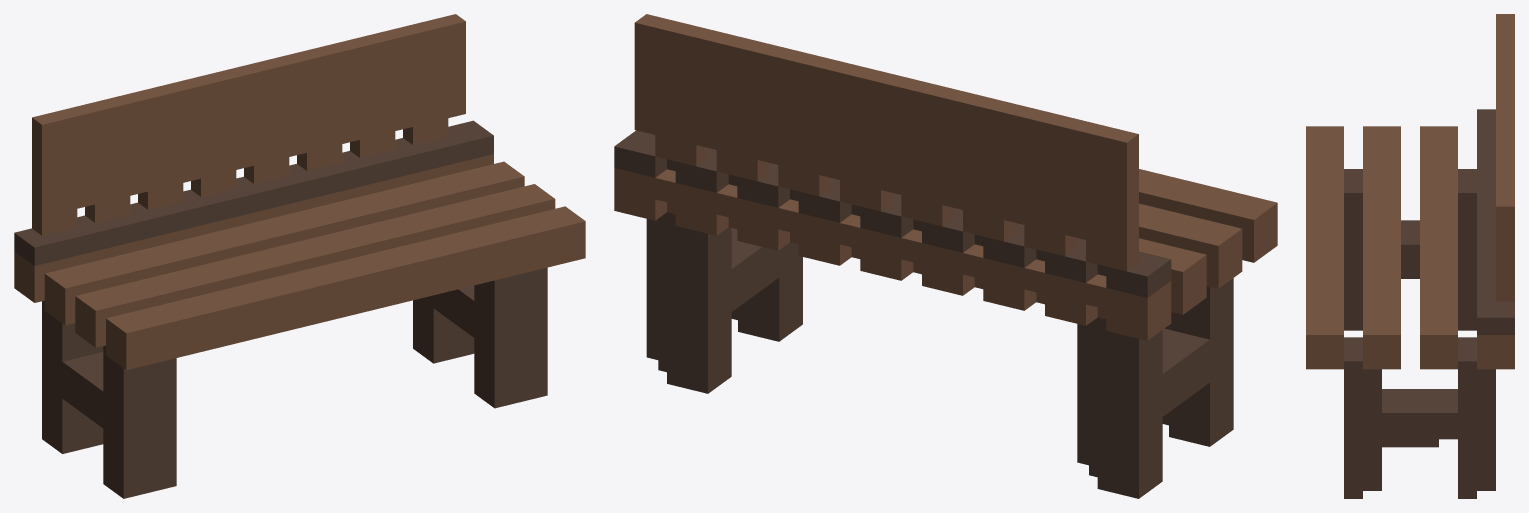
File: hearthvale_prop_bench.obj
3 renders of one model, left to right at view 1: azimuth 30°, elevation 25°; view 2: azimuth 150°, elevation 25°; view 3: azimuth 270°, elevation 25°, orthographic. The views are drawn at different scales.
Visible parts, largest first — view 1: palette_1, palette_8; view 2: palette_1, palette_8; view 3: palette_1, palette_8.
Part boxes in pixels (<box>): palette_1: <box>14,14,585,370</box>; palette_8: <box>14,120,547,498</box>; palette_1: <box>614,14,1277,340</box>; palette_8: <box>614,130,1233,498</box>; palette_1: <box>1306,14,1514,369</box>; palette_8: <box>1344,109,1514,498</box>.
Size of the model in its own units: 3.25 by 2.12 by 1.38.
